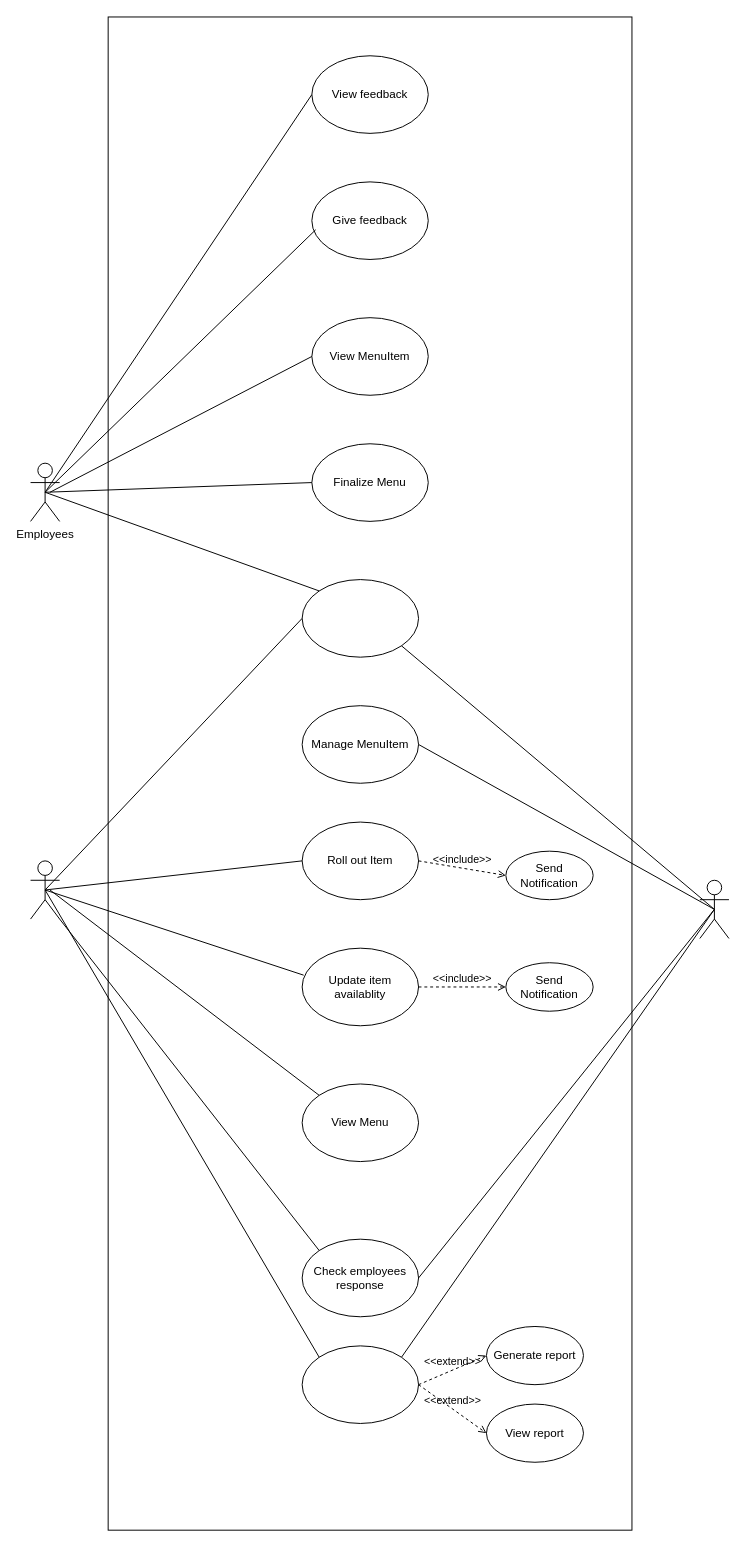
Some shapes in this 748 by 1547 pixel diagram are drawn without their labels. Each missing label, with the box of its shape:
Admin: (699, 879, 729, 938)
Authentication: (301, 579, 419, 657)
Check monthly report: (301, 1345, 419, 1423)
Chef: (30, 860, 60, 919)
